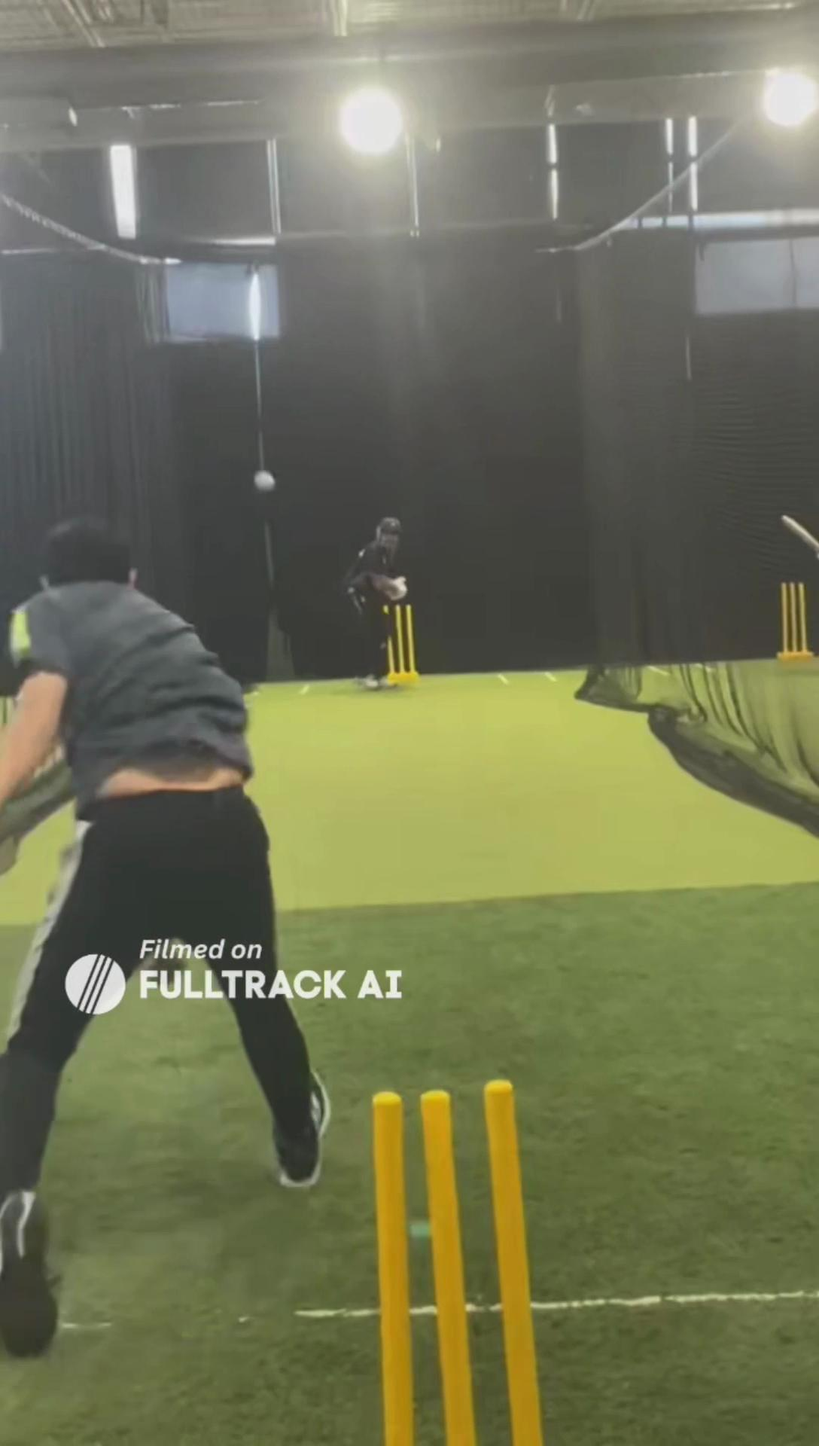ball: (236, 457, 289, 503)
